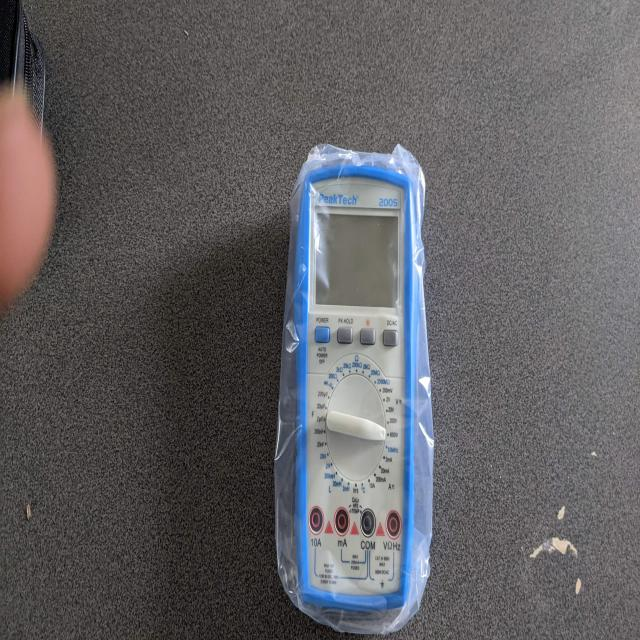Digital Multimeter: (288, 141, 426, 633)
